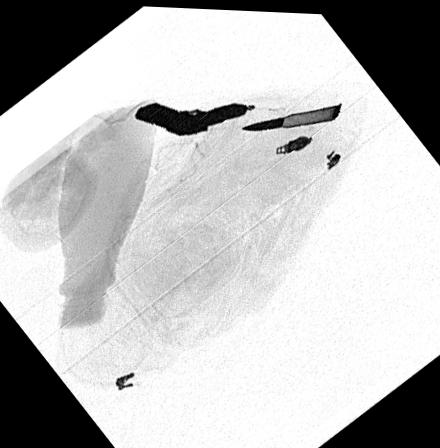Bullet: (239, 100, 342, 130)
Gun: (130, 97, 249, 133)
